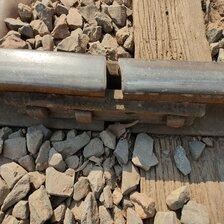railway-gap: (79, 47, 145, 108)
